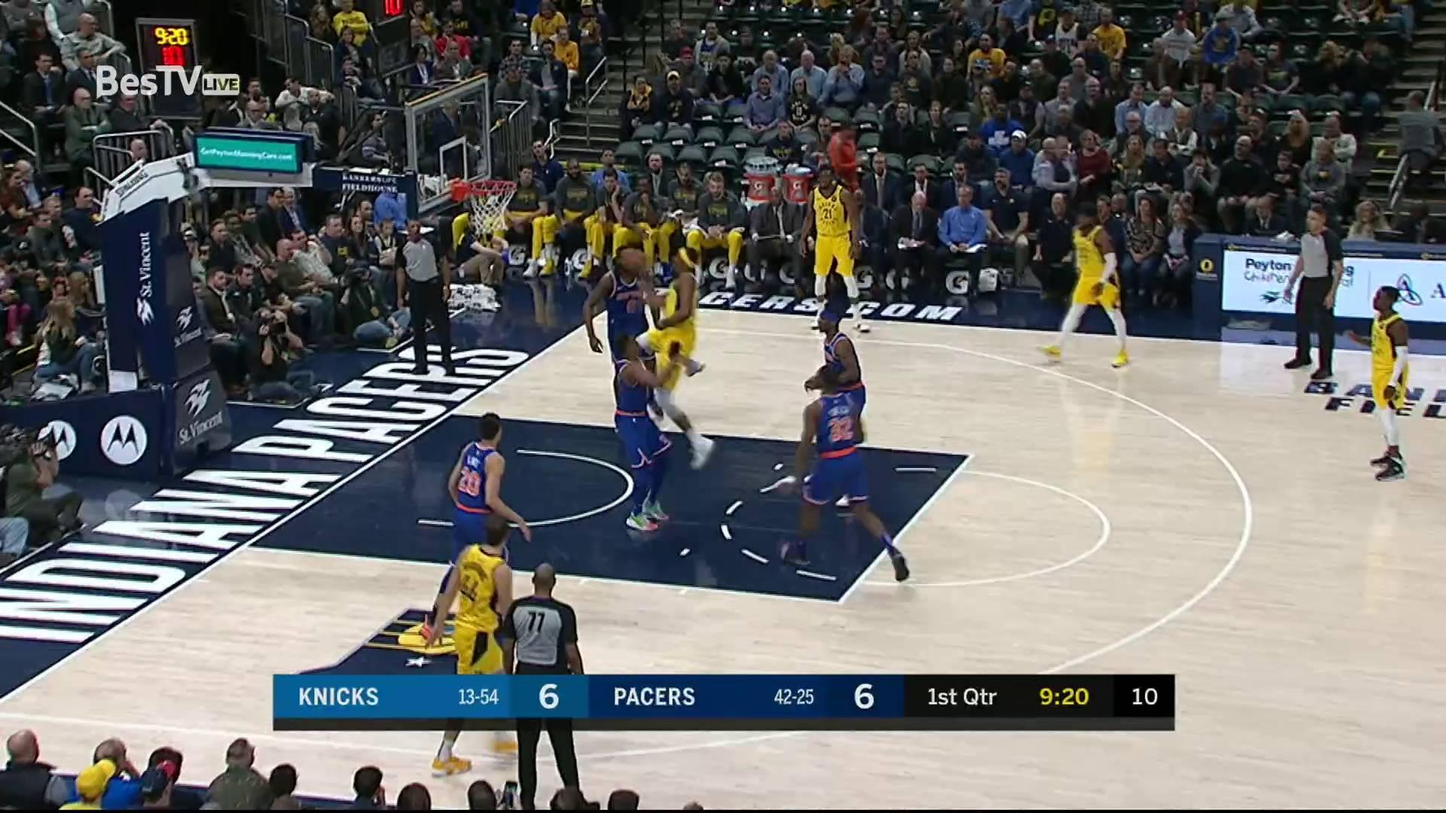basketball: (618, 248, 648, 277)
